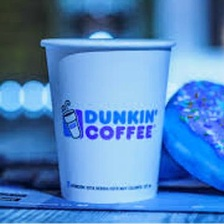paper_cup: (35, 31, 181, 208)
